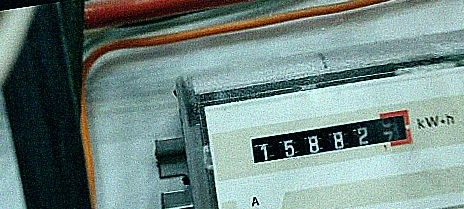1: (258, 141, 269, 160)
2: (355, 124, 370, 145)
5: (280, 137, 296, 157)
7: (380, 127, 394, 141)
8: (330, 127, 346, 150), (306, 132, 321, 153)
screen: (244, 106, 417, 170)
